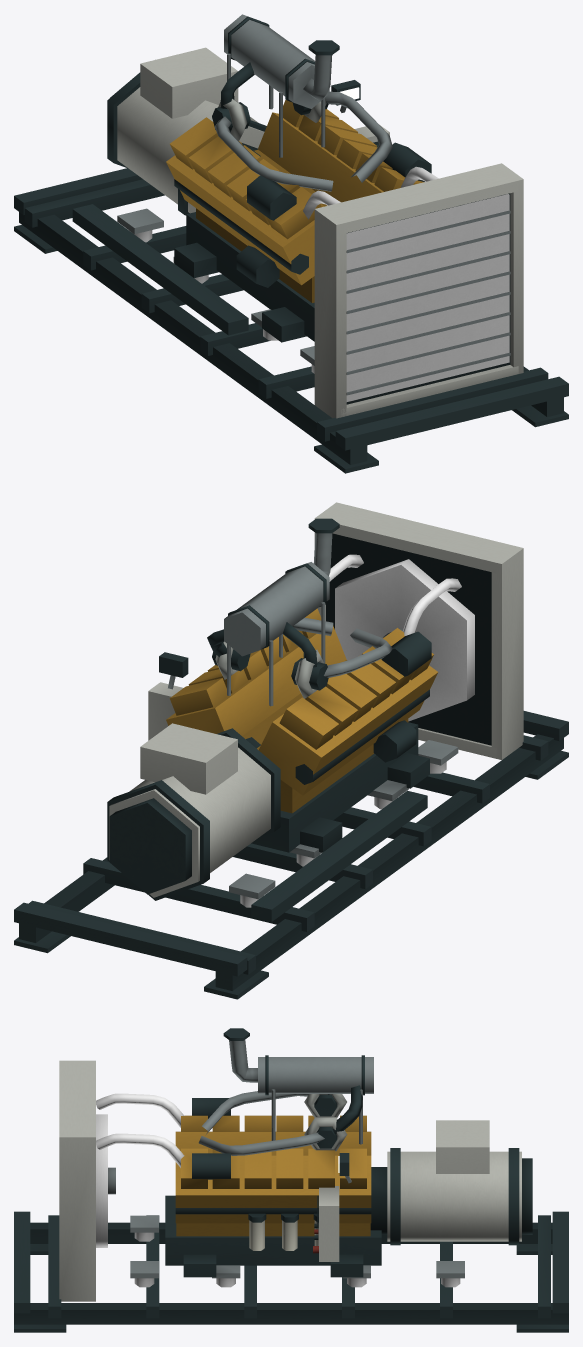
The model's file is genset_single_lodl.glb.
3 views of the same model, one above another, from view 1: azimuth 30°, elevation 25°; view 2: azimuth 150°, elevation 25°; view 3: azimuth 270°, elevation 25° (orthographic). The views are drawn at different scales.
Visible parts, largest first — view 1: skid_dark, radiator_rubber, engine_castings_yellow, radiator_ivory, alternator_ivory, engine_castings_dark, exhaust_steel, cable_tray_dark, radiator_steel, turbochargers_and_intake_steel, turbochargers_and_intake_dark, exhaust_dark (+6 smaller); view 2: skid_dark, engine_castings_yellow, radiator_ivory, alternator_ivory, radiator_rubber, alternator_dark, radiator_dark, engine_castings_dark, exhaust_steel, cable_tray_dark, isolation_mounts_steel, turbochargers_and_intake_dark (+8 smaller); view 3: skid_dark, engine_castings_yellow, alternator_ivory, radiator_ivory, engine_castings_dark, exhaust_steel, alternator_dark, turbochargers_and_intake_dark, turbochargers_and_intake_steel, isolation_mounts_steel, coolant_pipework_rubber, control_panel_ivory (+6 smaller).
Boxes of the visible parts, x1=… form: skid_dark: x1=14, y1=168, x2=568, y2=473; radiator_rubber: x1=346, y1=194, x2=509, y2=401; engine_castings_yellow: x1=166, y1=100, x2=424, y2=302; radiator_ivory: x1=314, y1=163, x2=523, y2=418; alternator_ivory: x1=117, y1=47, x2=264, y2=213; engine_castings_dark: x1=174, y1=179, x2=314, y2=342; exhaust_steel: x1=224, y1=14, x2=332, y2=157; cable_tray_dark: x1=72, y1=204, x2=248, y2=335; radiator_steel: x1=346, y1=210, x2=510, y2=395; turbochargers_and_intake_steel: x1=214, y1=91, x2=392, y2=191; turbochargers_and_intake_dark: x1=212, y1=102, x2=431, y2=220; exhaust_dark: x1=220, y1=16, x2=339, y2=108; skid_dark: x1=14, y1=711, x2=568, y2=999; engine_castings_yellow: x1=166, y1=608, x2=438, y2=813; radiator_ivory: x1=314, y1=502, x2=523, y2=759; alternator_ivory: x1=109, y1=723, x2=270, y2=897; radiator_rubber: x1=335, y1=559, x2=474, y2=721; alternator_dark: x1=107, y1=728, x2=280, y2=900; radiator_dark: x1=326, y1=533, x2=491, y2=745; engine_castings_dark: x1=251, y1=689, x2=429, y2=852; exhaust_steel: x1=224, y1=533, x2=332, y2=706; cable_tray_dark: x1=251, y1=790, x2=427, y2=921; isolation_mounts_steel: x1=229, y1=740, x2=458, y2=899; turbochargers_and_intake_dark: x1=212, y1=631, x2=431, y2=690; skid_dark: x1=14, y1=1211, x2=568, y2=1332; engine_castings_yellow: x1=175, y1=1115, x2=371, y2=1236; alternator_ivory: x1=387, y1=1120, x2=521, y2=1241; radiator_ivory: x1=59, y1=1060, x2=95, y2=1301; engine_castings_dark: x1=165, y1=1195, x2=381, y2=1277; exhaust_steel: x1=229, y1=1040, x2=373, y2=1144; alternator_dark: x1=390, y1=1148, x2=532, y2=1245; turbochargers_and_intake_dark: x1=192, y1=1094, x2=337, y2=1179; turbochargers_and_intake_steel: x1=198, y1=1091, x2=324, y2=1155; isolation_mounts_steel: x1=130, y1=1215, x2=464, y2=1278; coolant_pipework_rubber: x1=96, y1=1093, x2=184, y2=1167; control_panel_ivory: x1=319, y1=1186, x2=339, y2=1261.
Bounding box in the file's own units: 2.68 × 3.43 × 6.8.
Materials: 10 (10 with a texture image).
